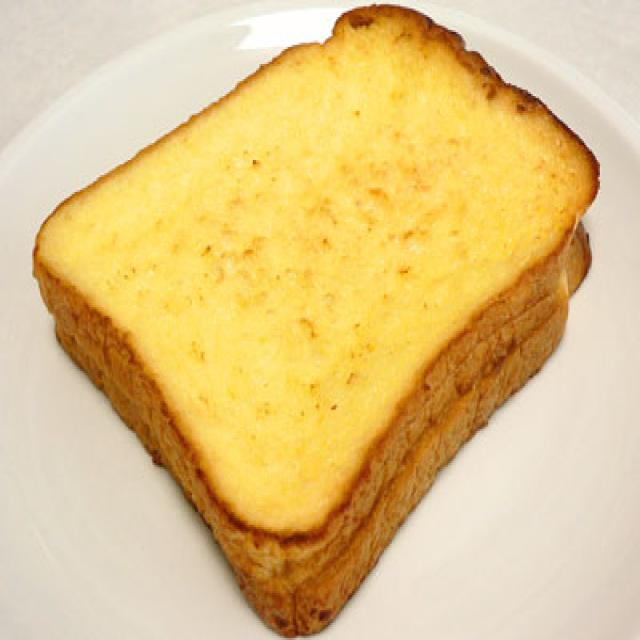面包点心: (28, 10, 606, 640)
